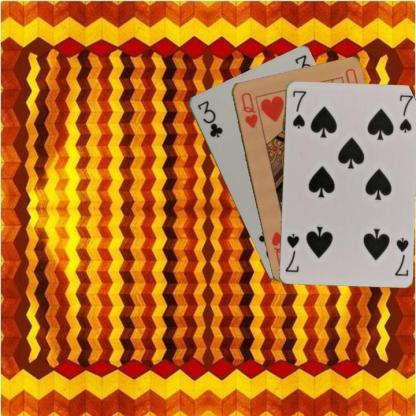3c: (194, 98, 224, 140)
7s: (289, 87, 308, 130), (392, 235, 410, 278)
Qh: (238, 90, 259, 130)
